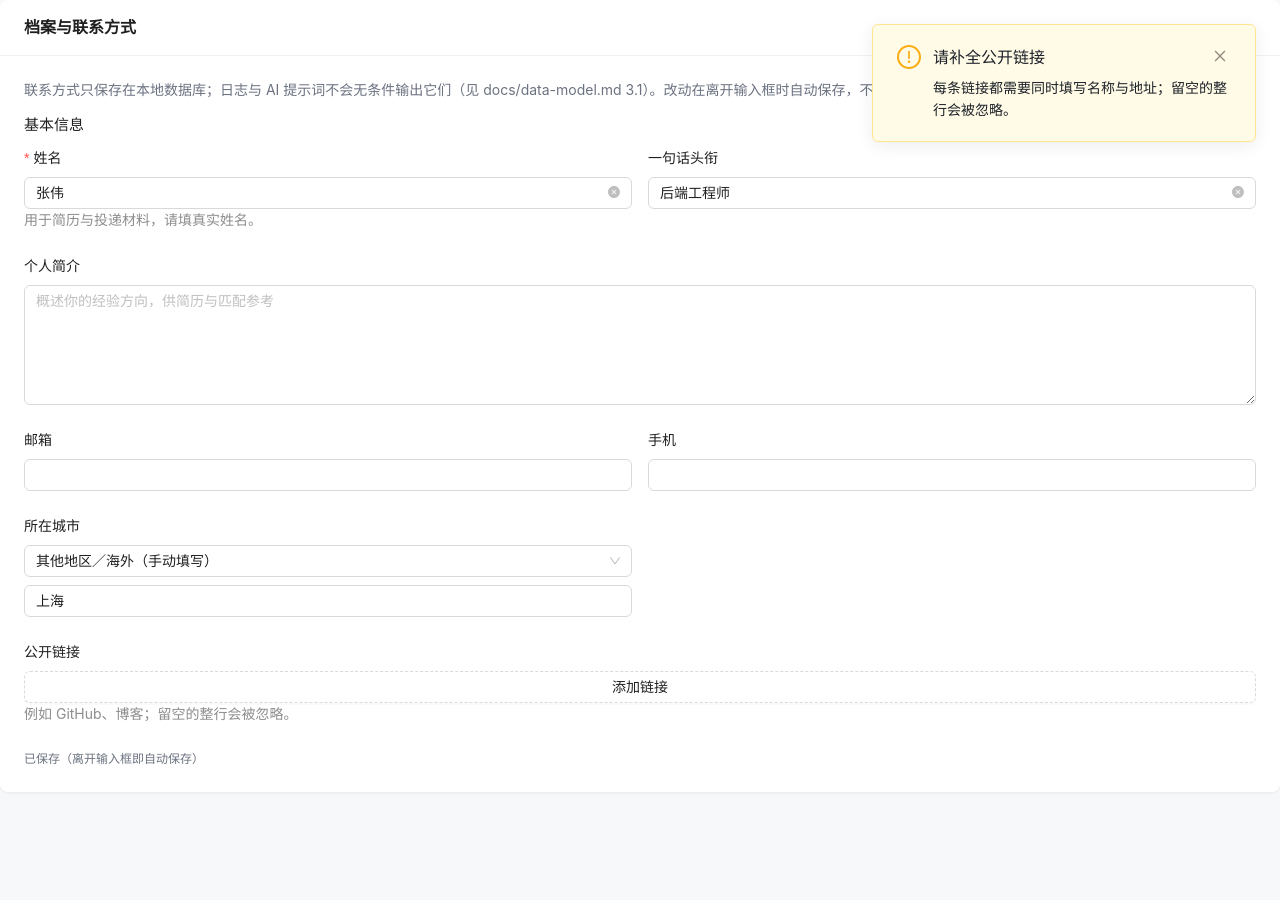
Scenario: ProfileBasicsPanel 自动保存 › 保存失败时就地提示字段原因并保持未保存状态
The width and height of the screenshot is (1280, 900).
Replace the text in the 1st field with "张伟（改）" at coordinates (320, 193), box [36, 182, 604, 204]
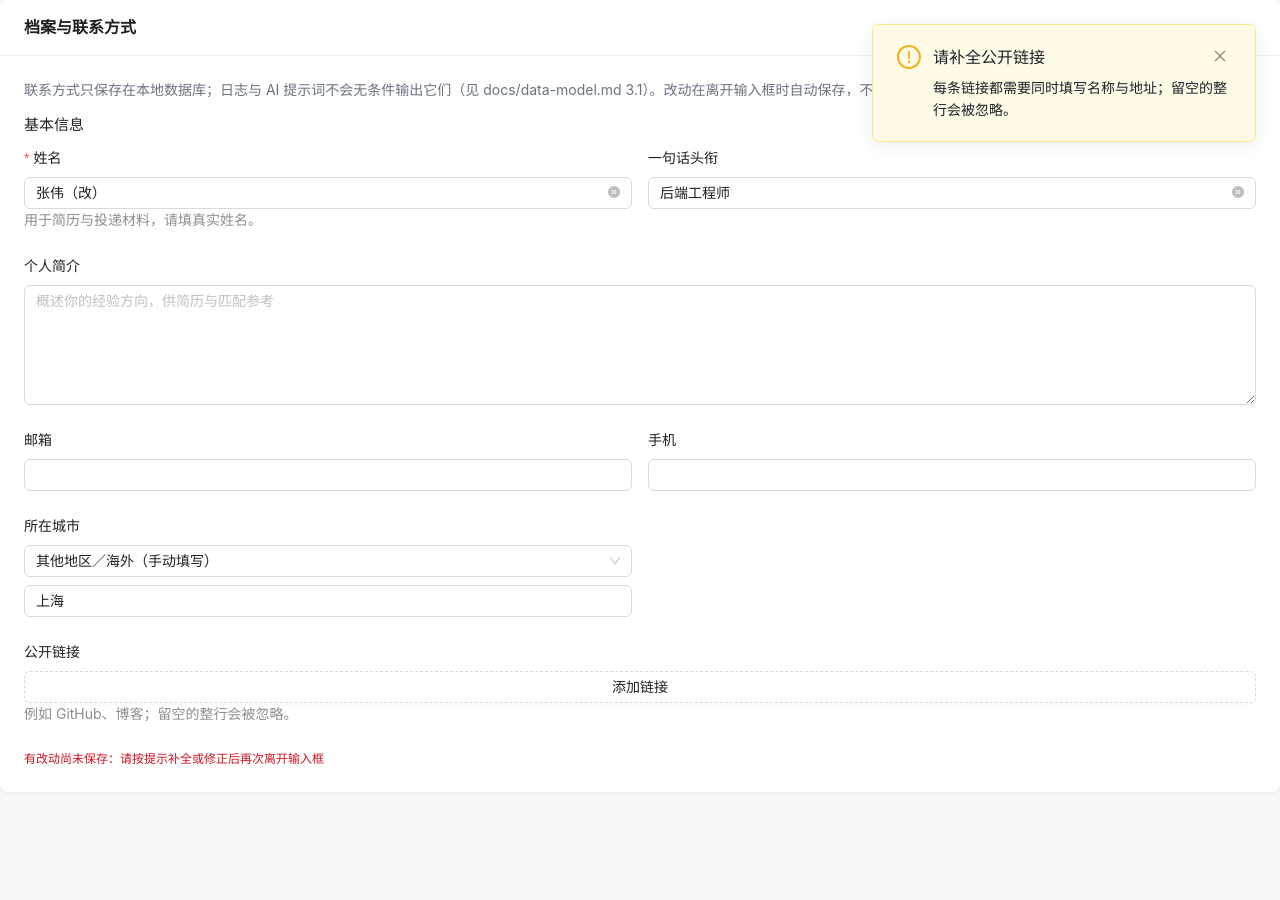
Leave the 1st field, box [36, 182, 604, 204]
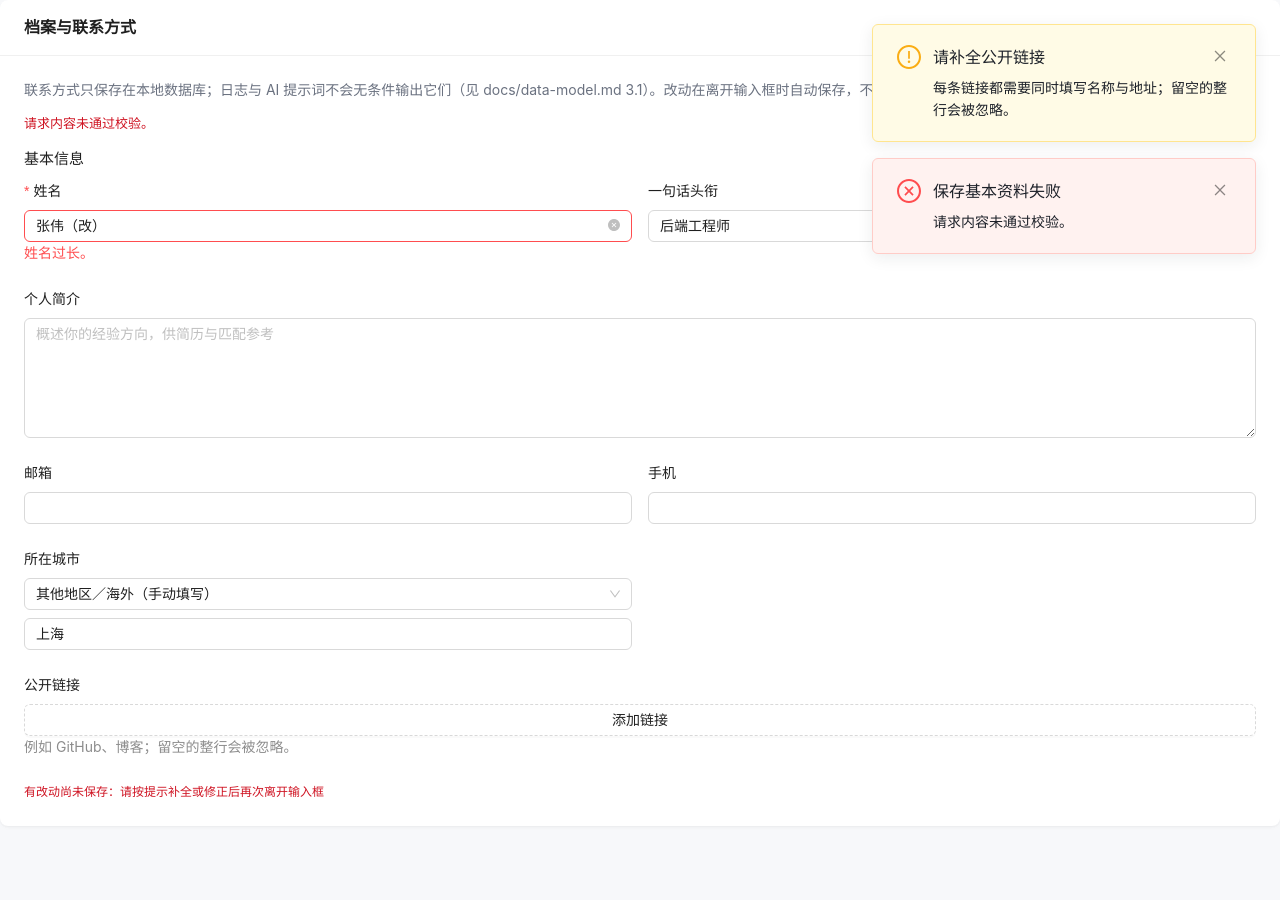
Now the text "姓名过长。" is shown, box [24, 242, 94, 264]
